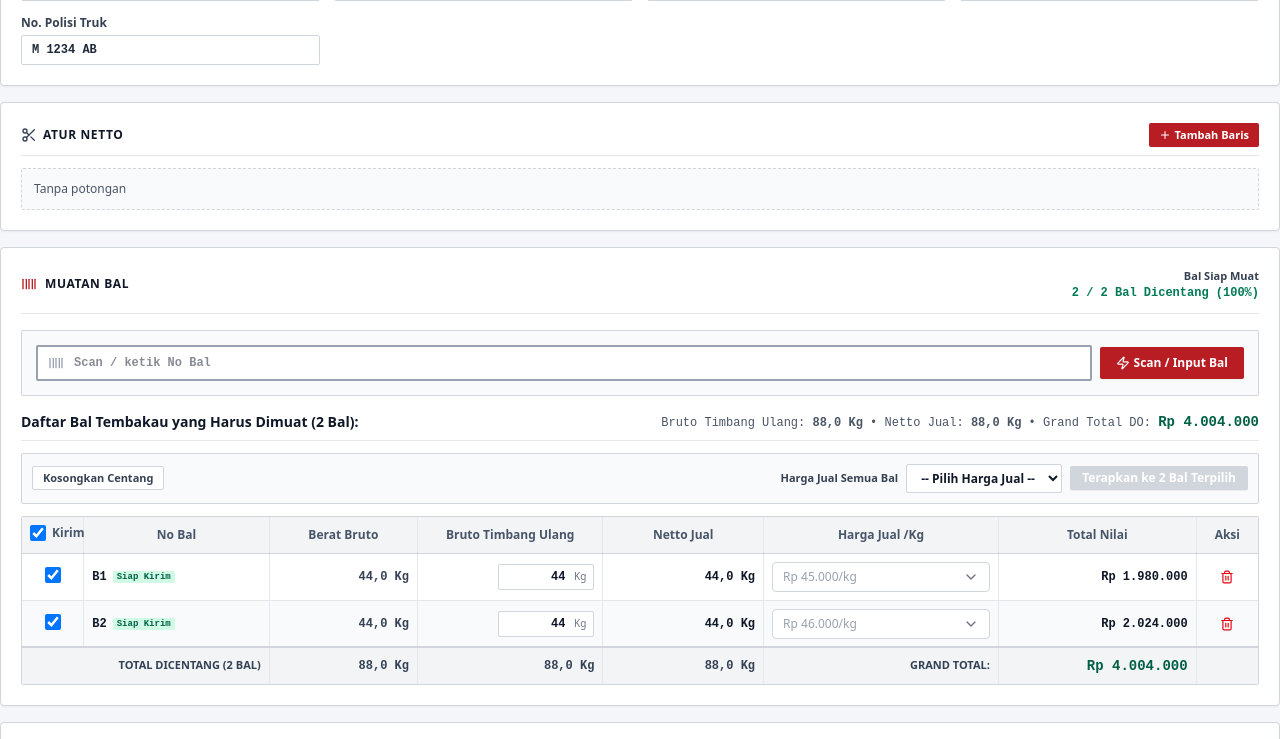
Scenario: Pengiriman Reguler: centang semua bal Surat Jalan › kotak di judul kolom Kirim melepas lalu mencentang semua bal; tombol Centang Semua muncul saat belum semua tercentang
(page scrolled)
Click the checkbox labelled "Kirim" at (38, 532), box [30,524,46,540]
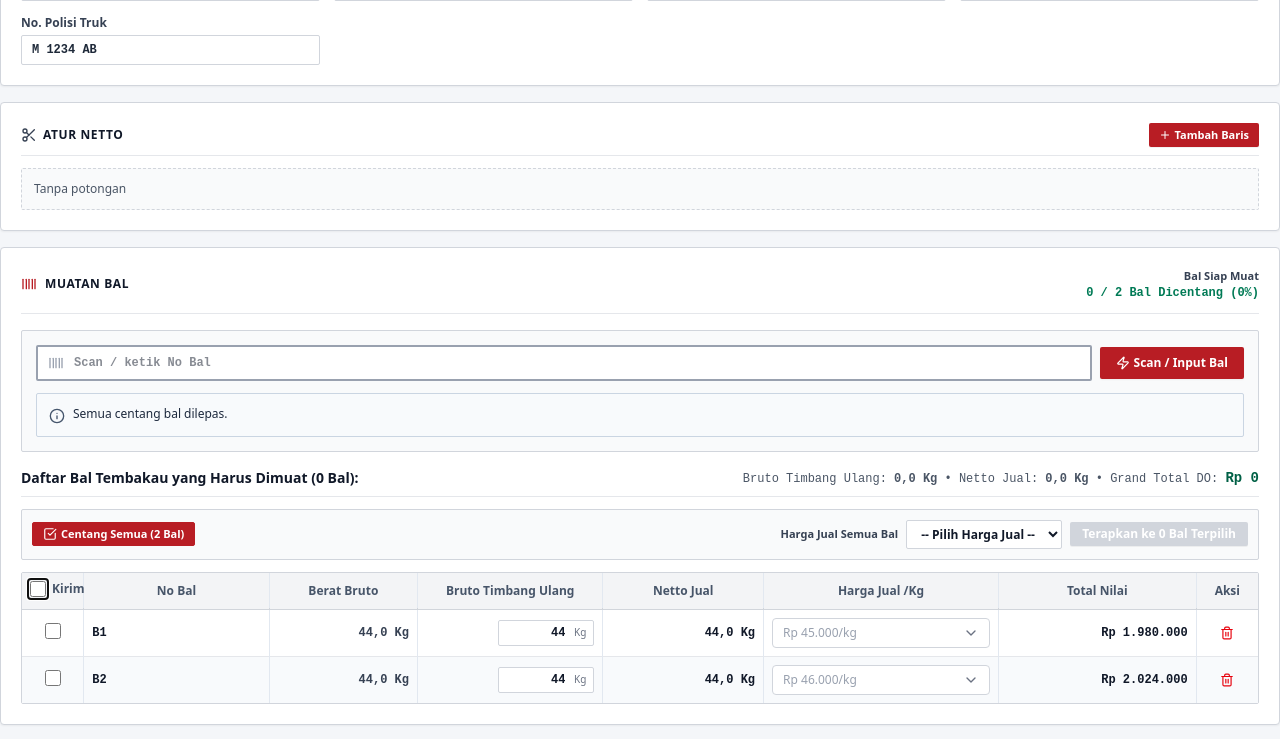
Result: the checkbox labelled "Kirim" is not checked at [30,580,46,596]
Click the checkbox next to "B1" at (53, 630), box [45,622,61,638]
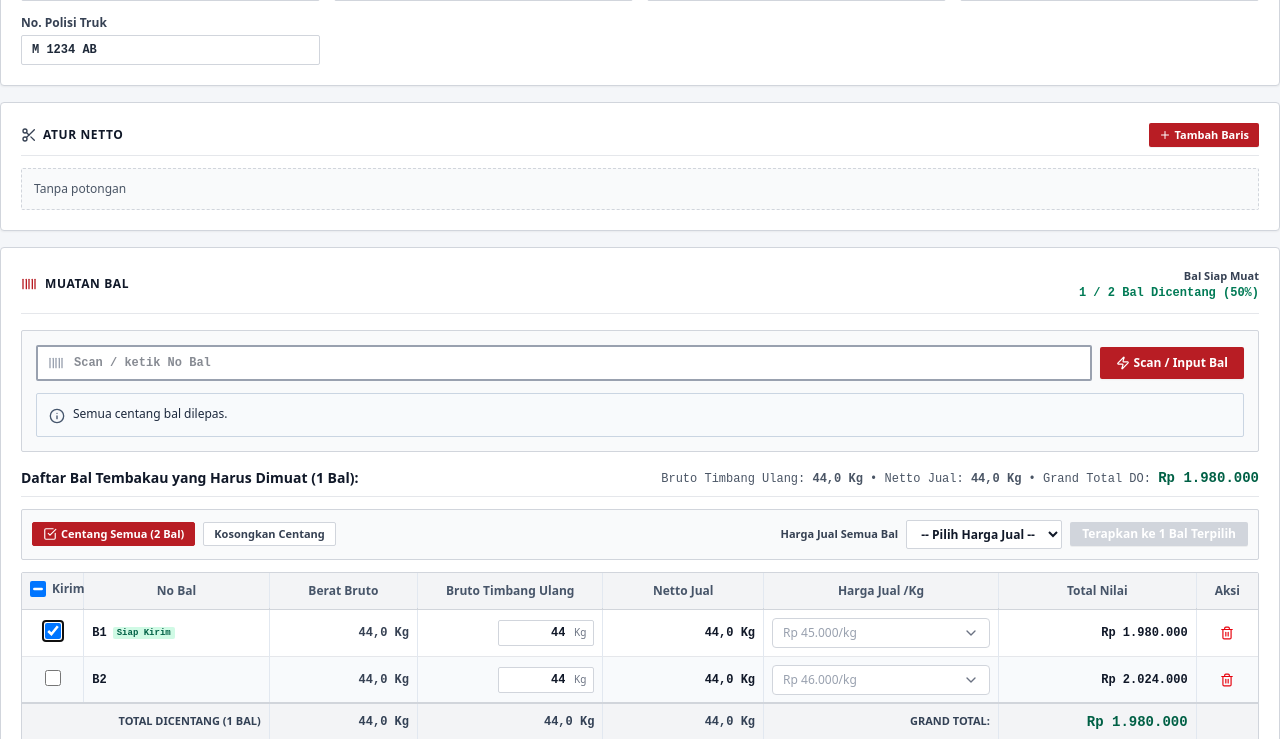
Click the button "Centang Semua (2 Bal)" at (114, 534), box [32,522,195,546]
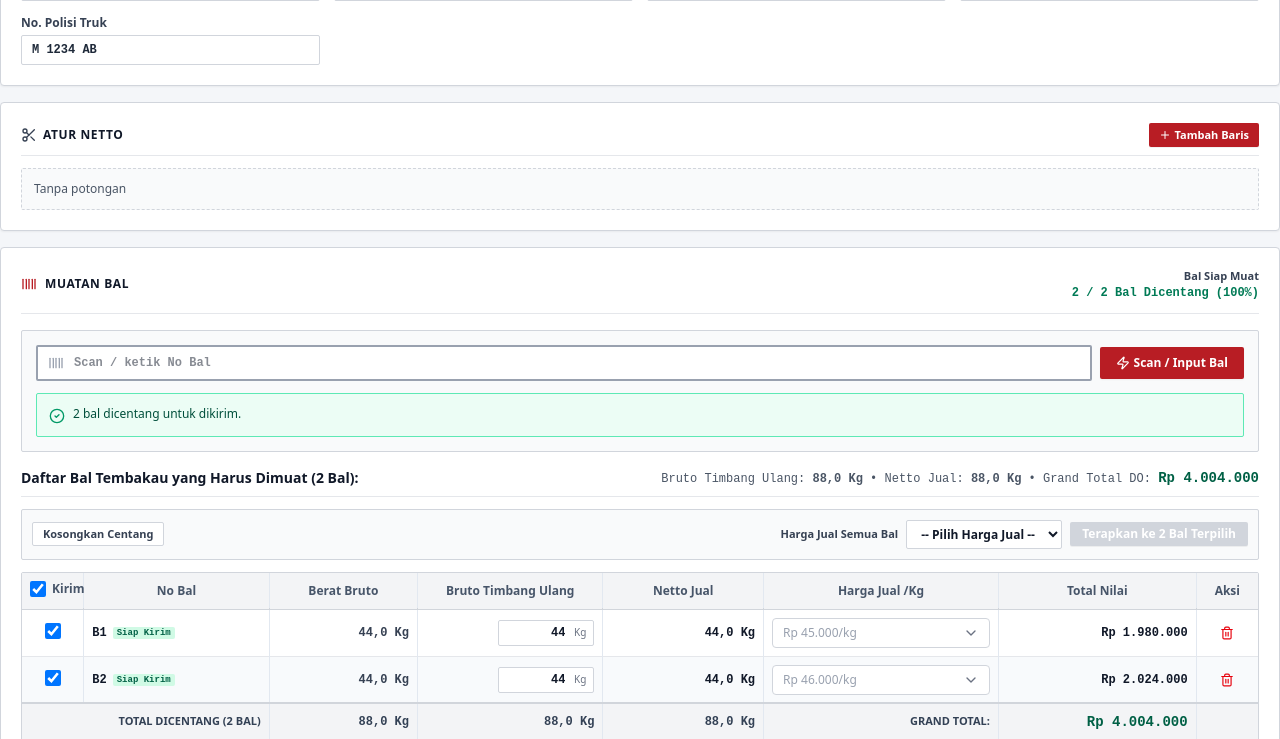
Result: the checkbox labelled "Kirim" is checked at [30,580,46,596]
Result: the button "Centang Semua (" is gone
